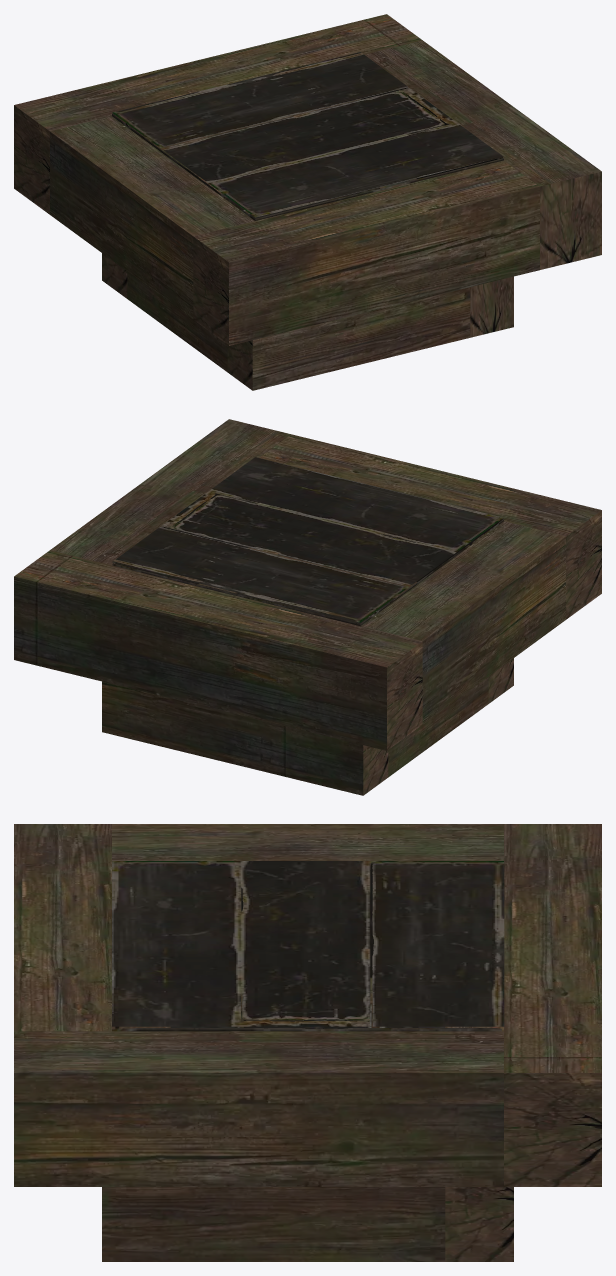
3 renders of one model, top to bottom at view 1: azimuth 30°, elevation 25°; view 2: azimuth 150°, elevation 25°; view 3: azimuth 270°, elevation 25°, orthographic. The views are drawn at different scales.
Visible parts, largest first — view 1: SM_BB_T1_Floor_Small_LOD0; view 2: SM_BB_T1_Floor_Small_LOD0; view 3: SM_BB_T1_Floor_Small_LOD0.
Boxes of the visible parts, x1,y1,x2,y2 form: SM_BB_T1_Floor_Small_LOD0: [14, 14, 601, 390]; SM_BB_T1_Floor_Small_LOD0: [14, 419, 601, 795]; SM_BB_T1_Floor_Small_LOD0: [14, 824, 601, 1261].
Bounding box in the file's own units: 1.13 × 0.4874 × 1.12.
2 materials, 2 textured.
